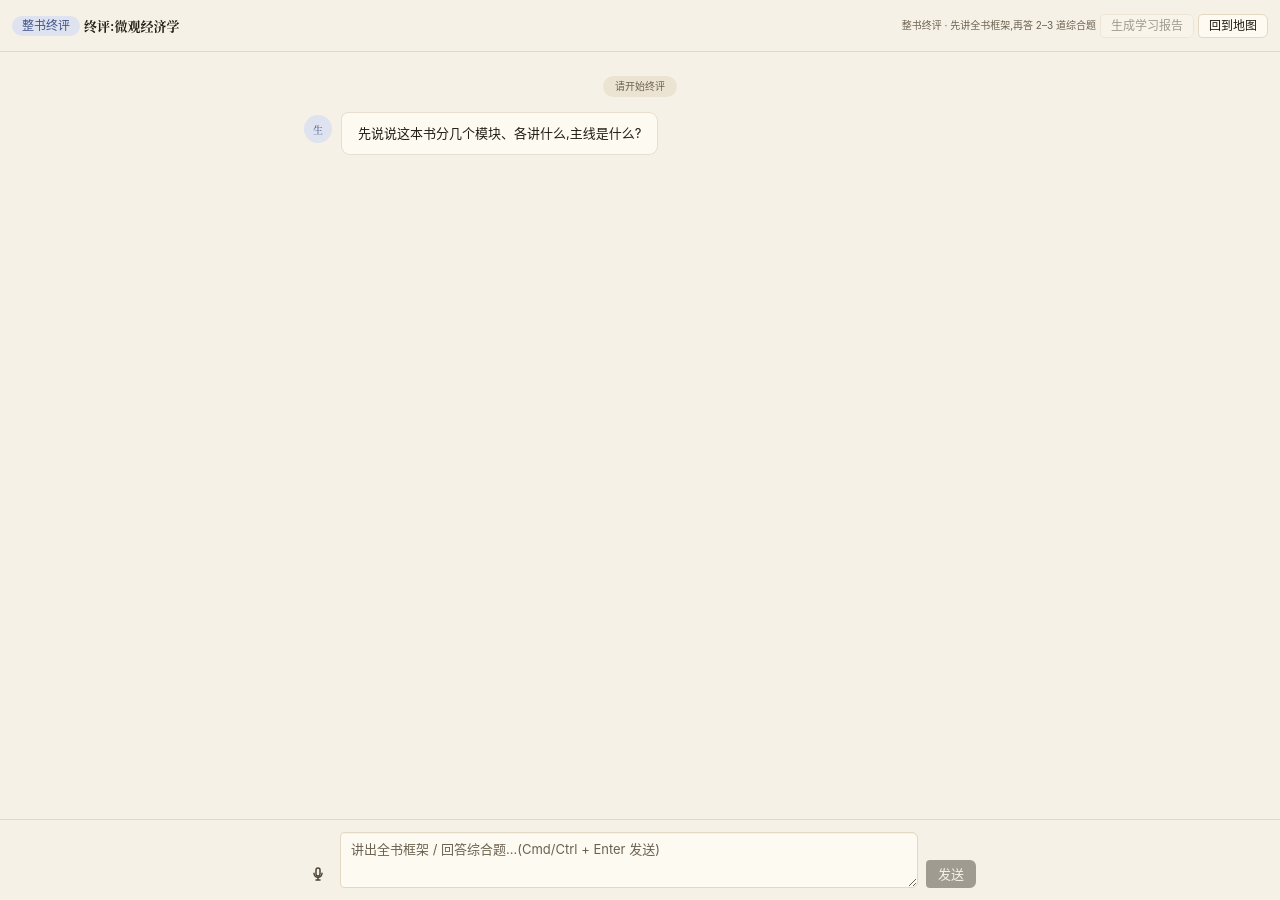
Test: 整书终评(M3 T1) › 生成报告失败:错误可见可重试,不离开页面
Type "答 1" into the text box named "终评输入" at (629, 860), box left=340, top=832, right=918, bottom=888
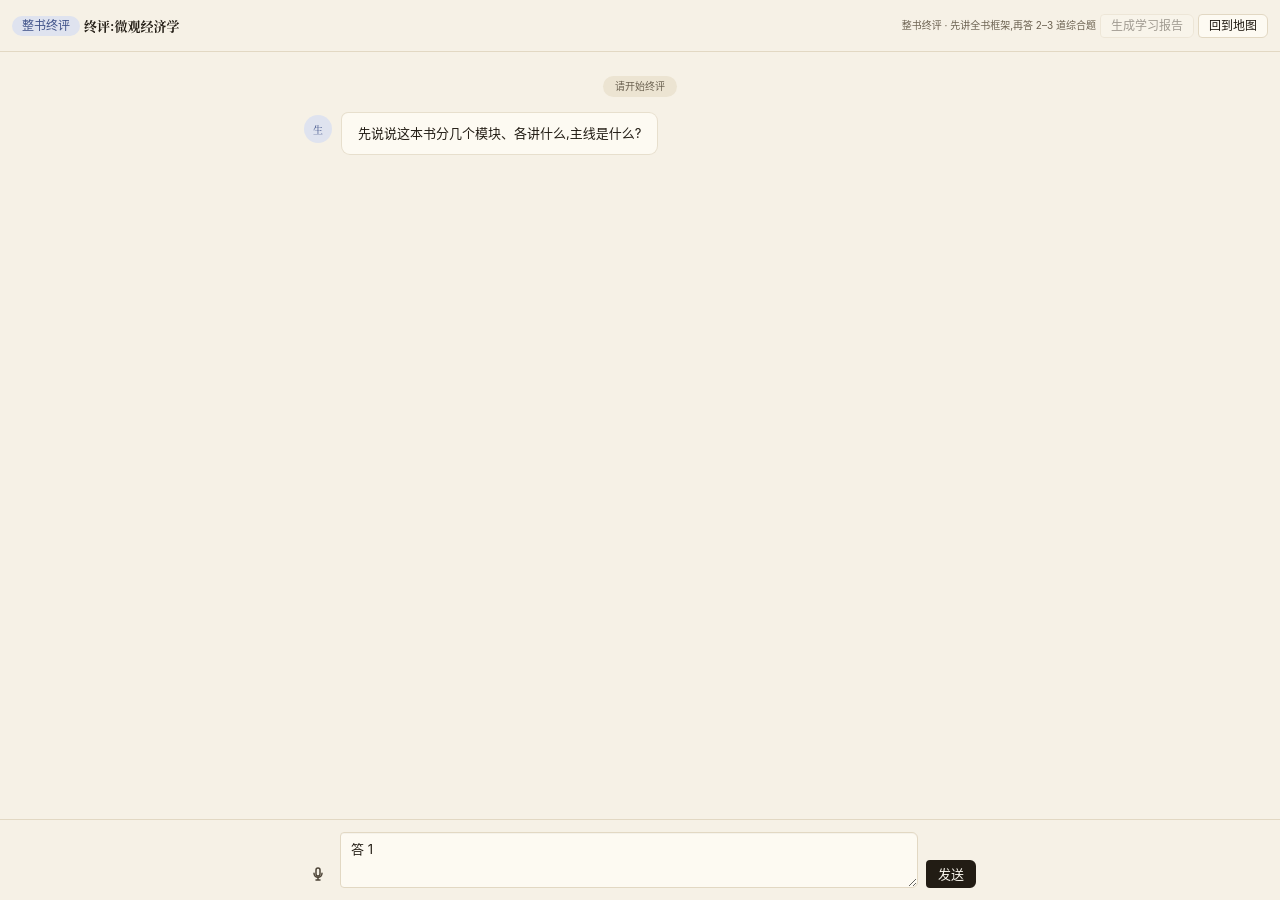
Click the button "发送" at (951, 874), box left=926, top=860, right=976, bottom=888
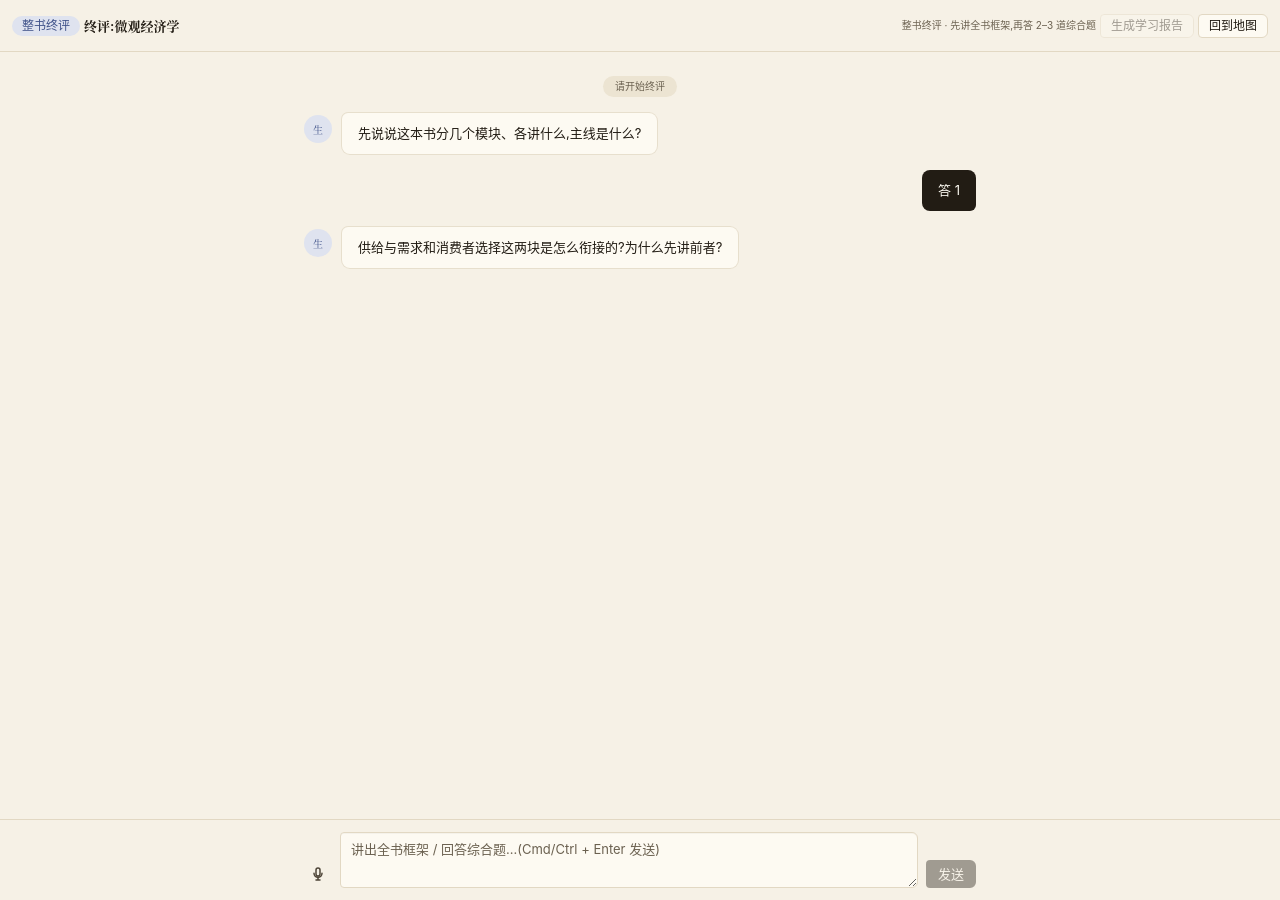
Type "答 2" into the text box named "终评输入" at (629, 860), box left=340, top=832, right=918, bottom=888
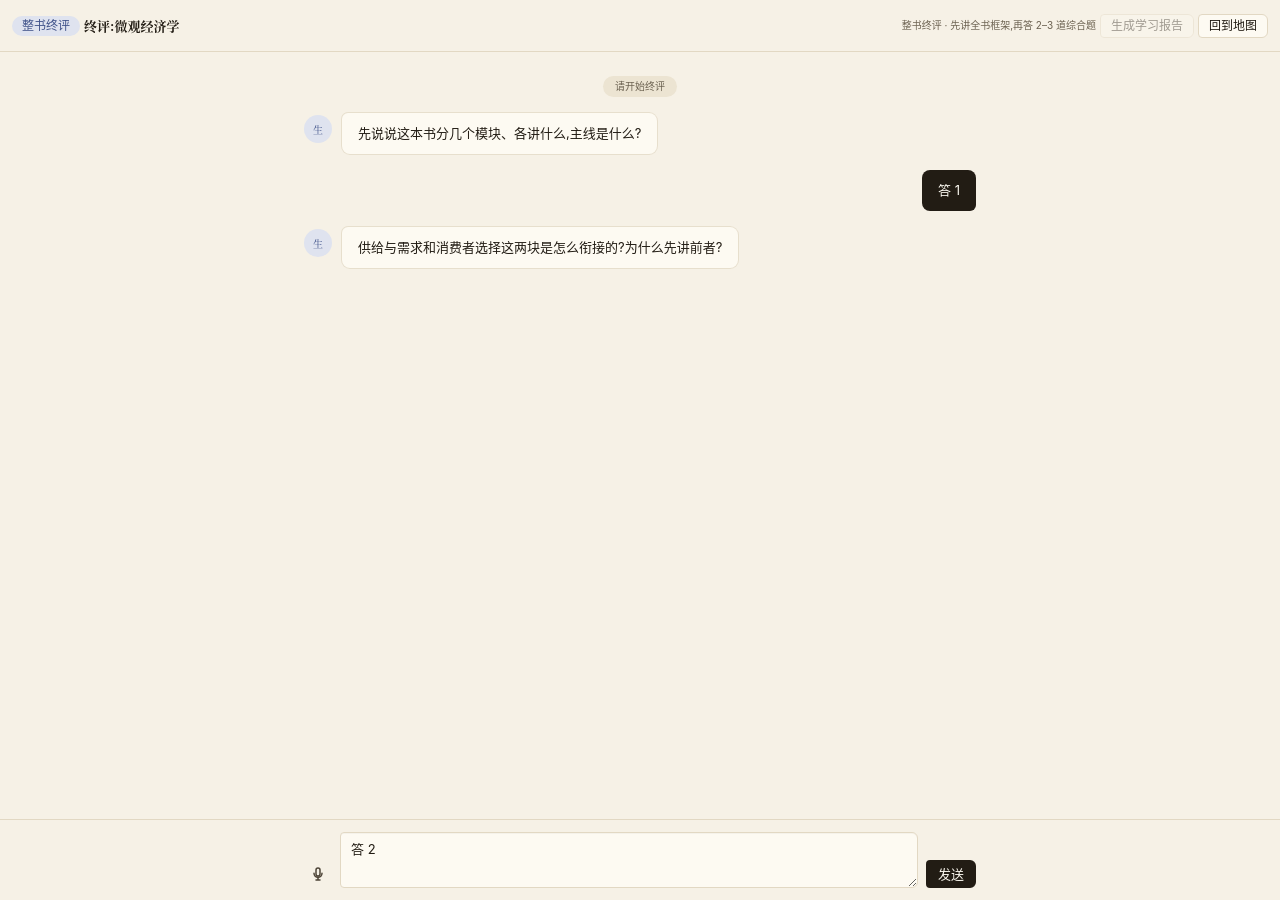
Click the button "发送" at (951, 874), box left=926, top=860, right=976, bottom=888
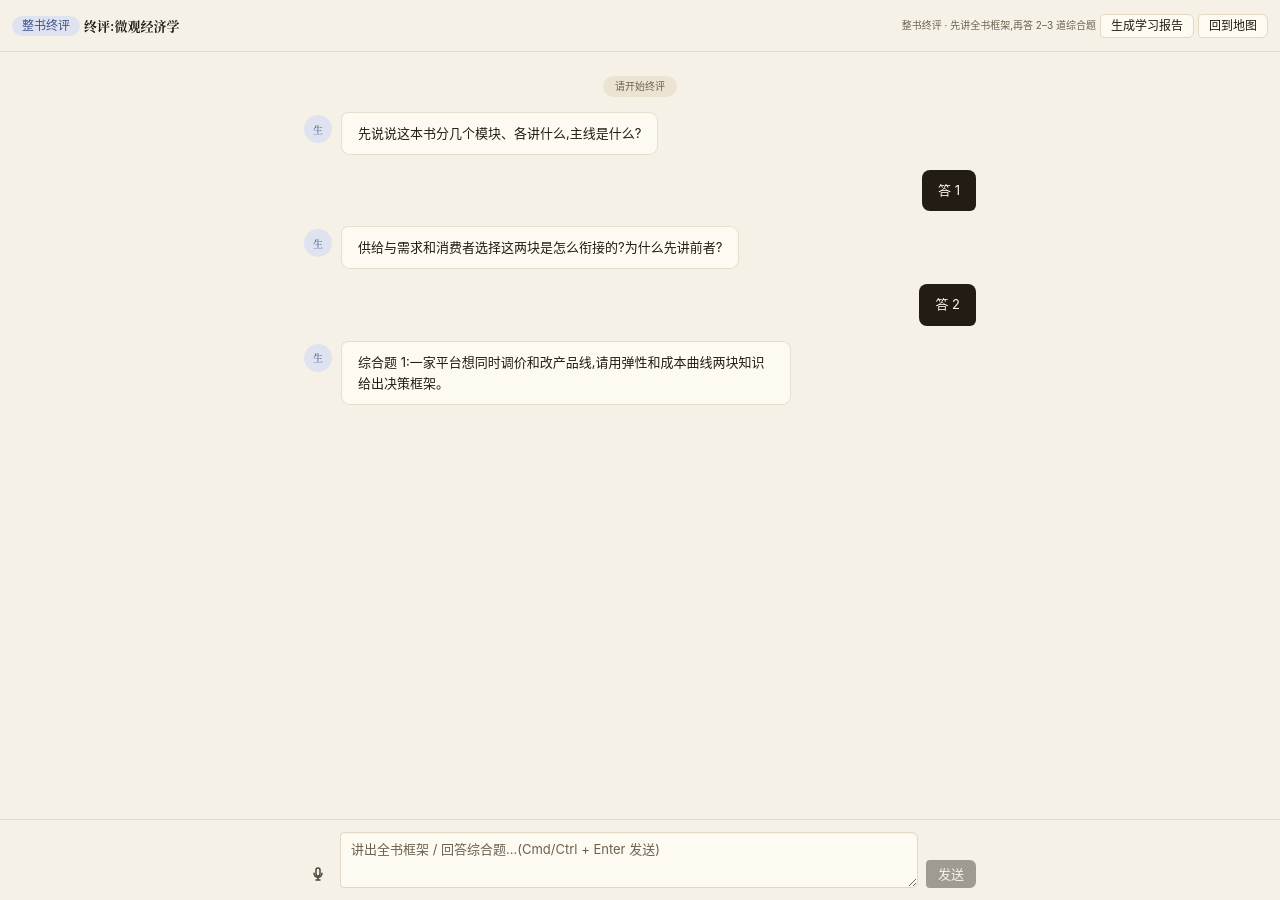
Click the button "生成学习报告" at (1147, 26), box left=1100, top=14, right=1194, bottom=38
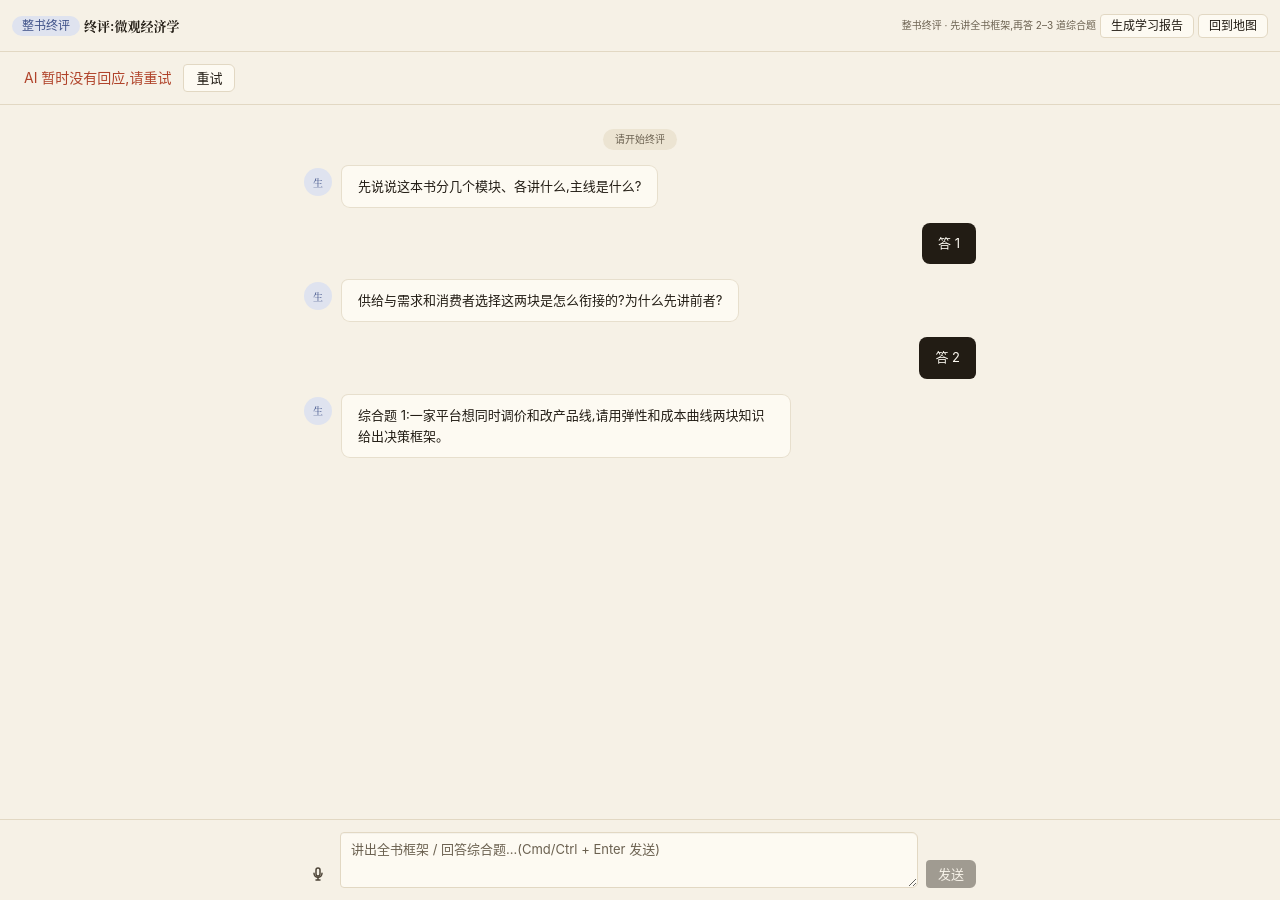
Expected: the message shows "AI 暂时没有回应", left=24, top=69, right=171, bottom=86
Click the button "重试" at (209, 78), box left=183, top=64, right=235, bottom=92
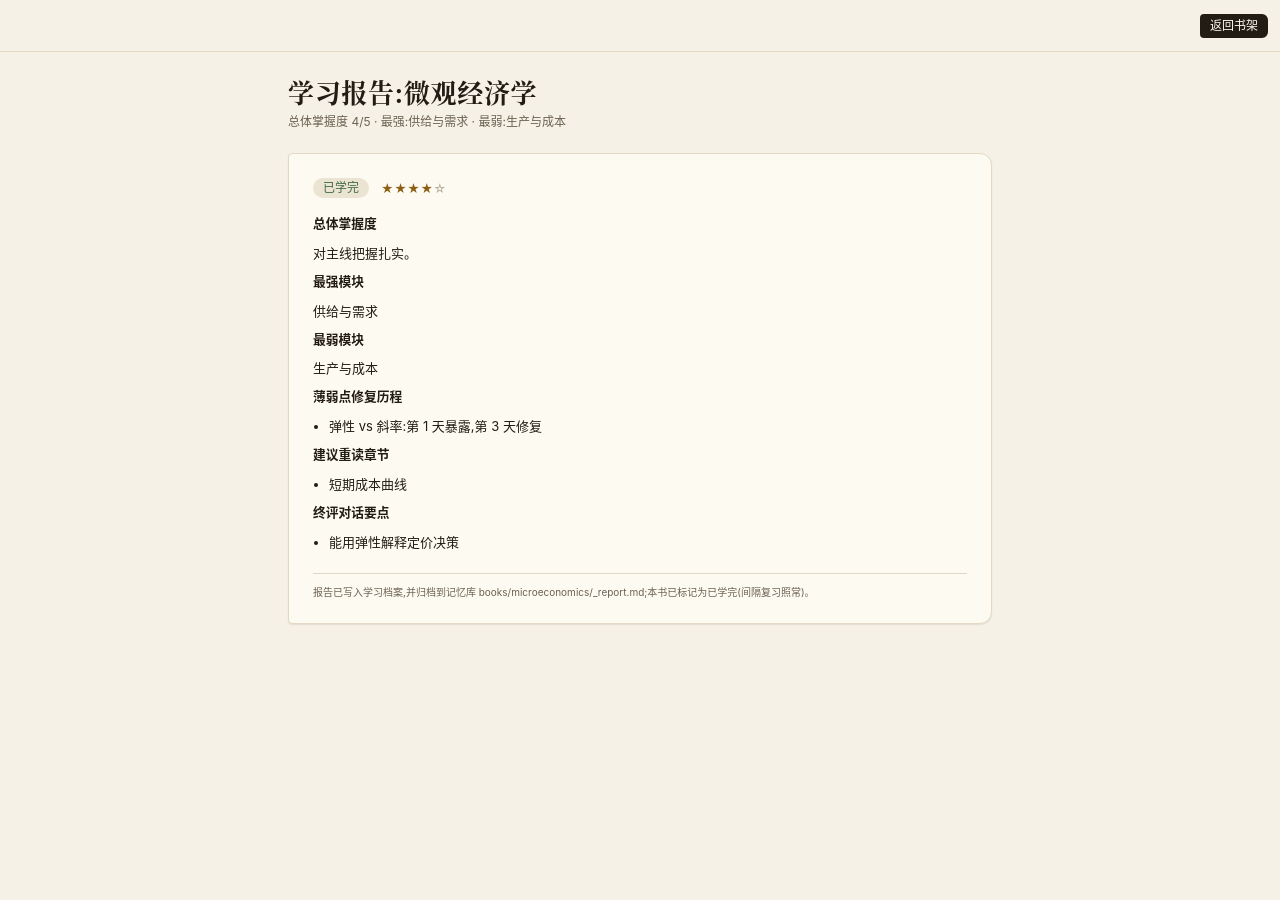
Expected: the heading shows "学习报告:", left=288, top=73, right=537, bottom=110
